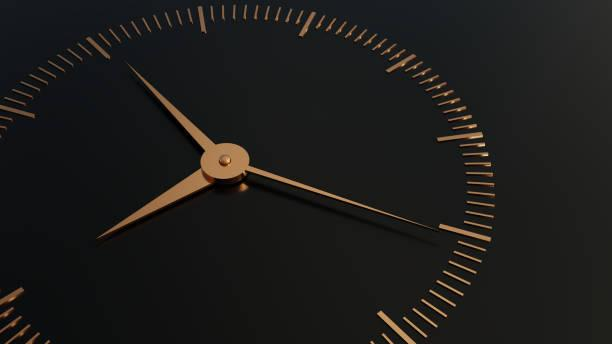clock: (0, 0, 496, 344)
